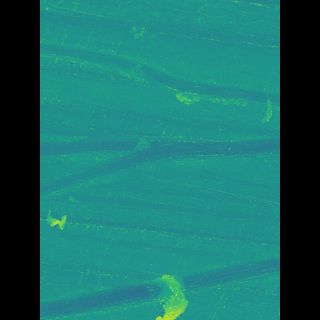Loch: (68, 122, 251, 201), (69, 39, 249, 112), (67, 252, 250, 320), (149, 268, 181, 319), (71, 202, 92, 235)
